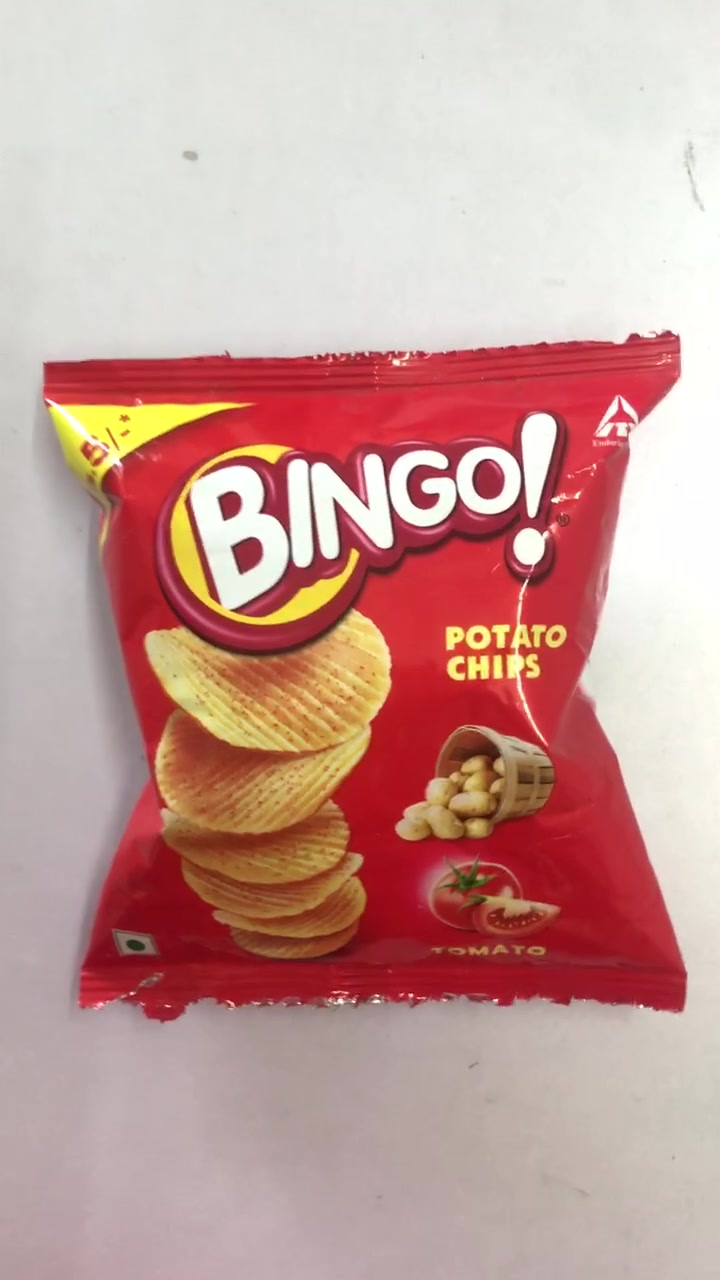Bingo: (46, 359, 687, 1000)
